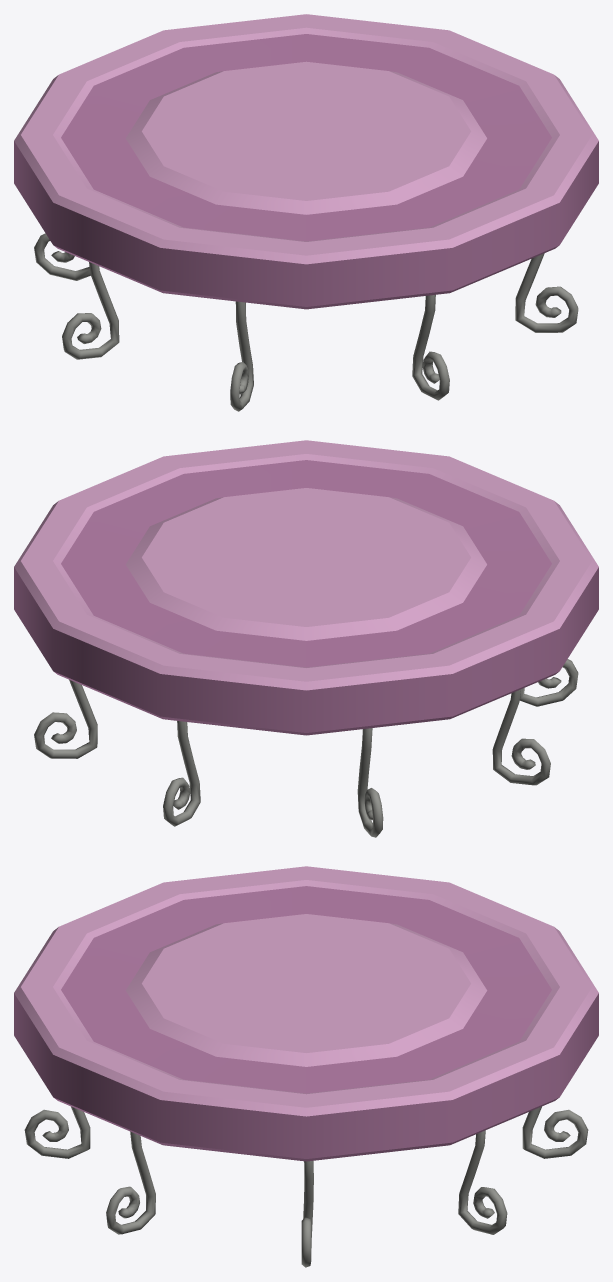
Rendered from FancyCoffeeTable.fbx.
The picture shows the model from 3 angles, top to bottom: view 1: azimuth 30°, elevation 25°; view 2: azimuth 150°, elevation 25°; view 3: azimuth 270°, elevation 25°; orthographic projection.
Parts seen in each view (by area): view 1: FancyCoffeeTable; view 2: FancyCoffeeTable; view 3: FancyCoffeeTable.
Boxes of the visible parts, x1,y1,x2,y2 form: FancyCoffeeTable: (14,14,598,411); FancyCoffeeTable: (14,440,598,837); FancyCoffeeTable: (14,866,598,1267).
Size of the model in its own units: 2.26 by 0.7479 by 2.26.
